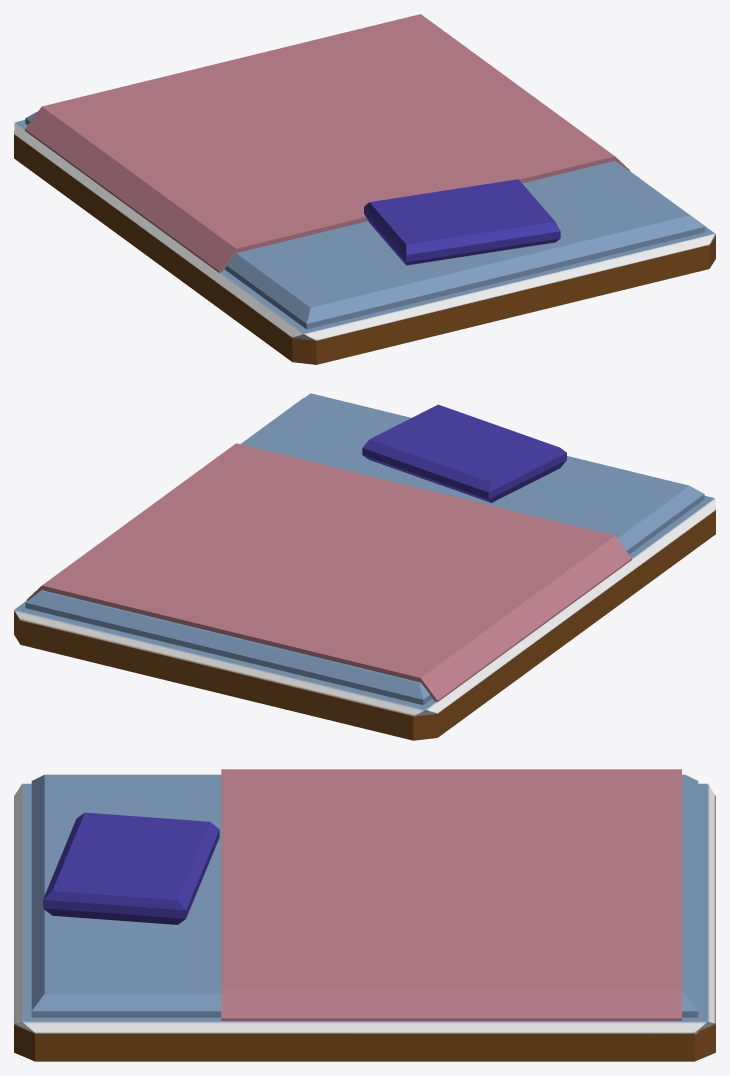
Rendered from Bed.glb.
3 views of the same model, one above another, from view 1: azimuth 30°, elevation 25°; view 2: azimuth 150°, elevation 25°; view 3: azimuth 270°, elevation 25° (orthographic). The views are drawn at different scales.
Visible parts, largest first — view 1: Plane; view 2: Plane; view 3: Plane.
Part boxes in pixels (box(x1,y1,x2,y2)): Plane: box(14, 14, 715, 364); Plane: box(14, 393, 715, 740); Plane: box(14, 769, 715, 1061).
Bounding box in the file's own units: 2 × 0.3119 × 2.42.
Materials: 1 (1 with a texture image).
